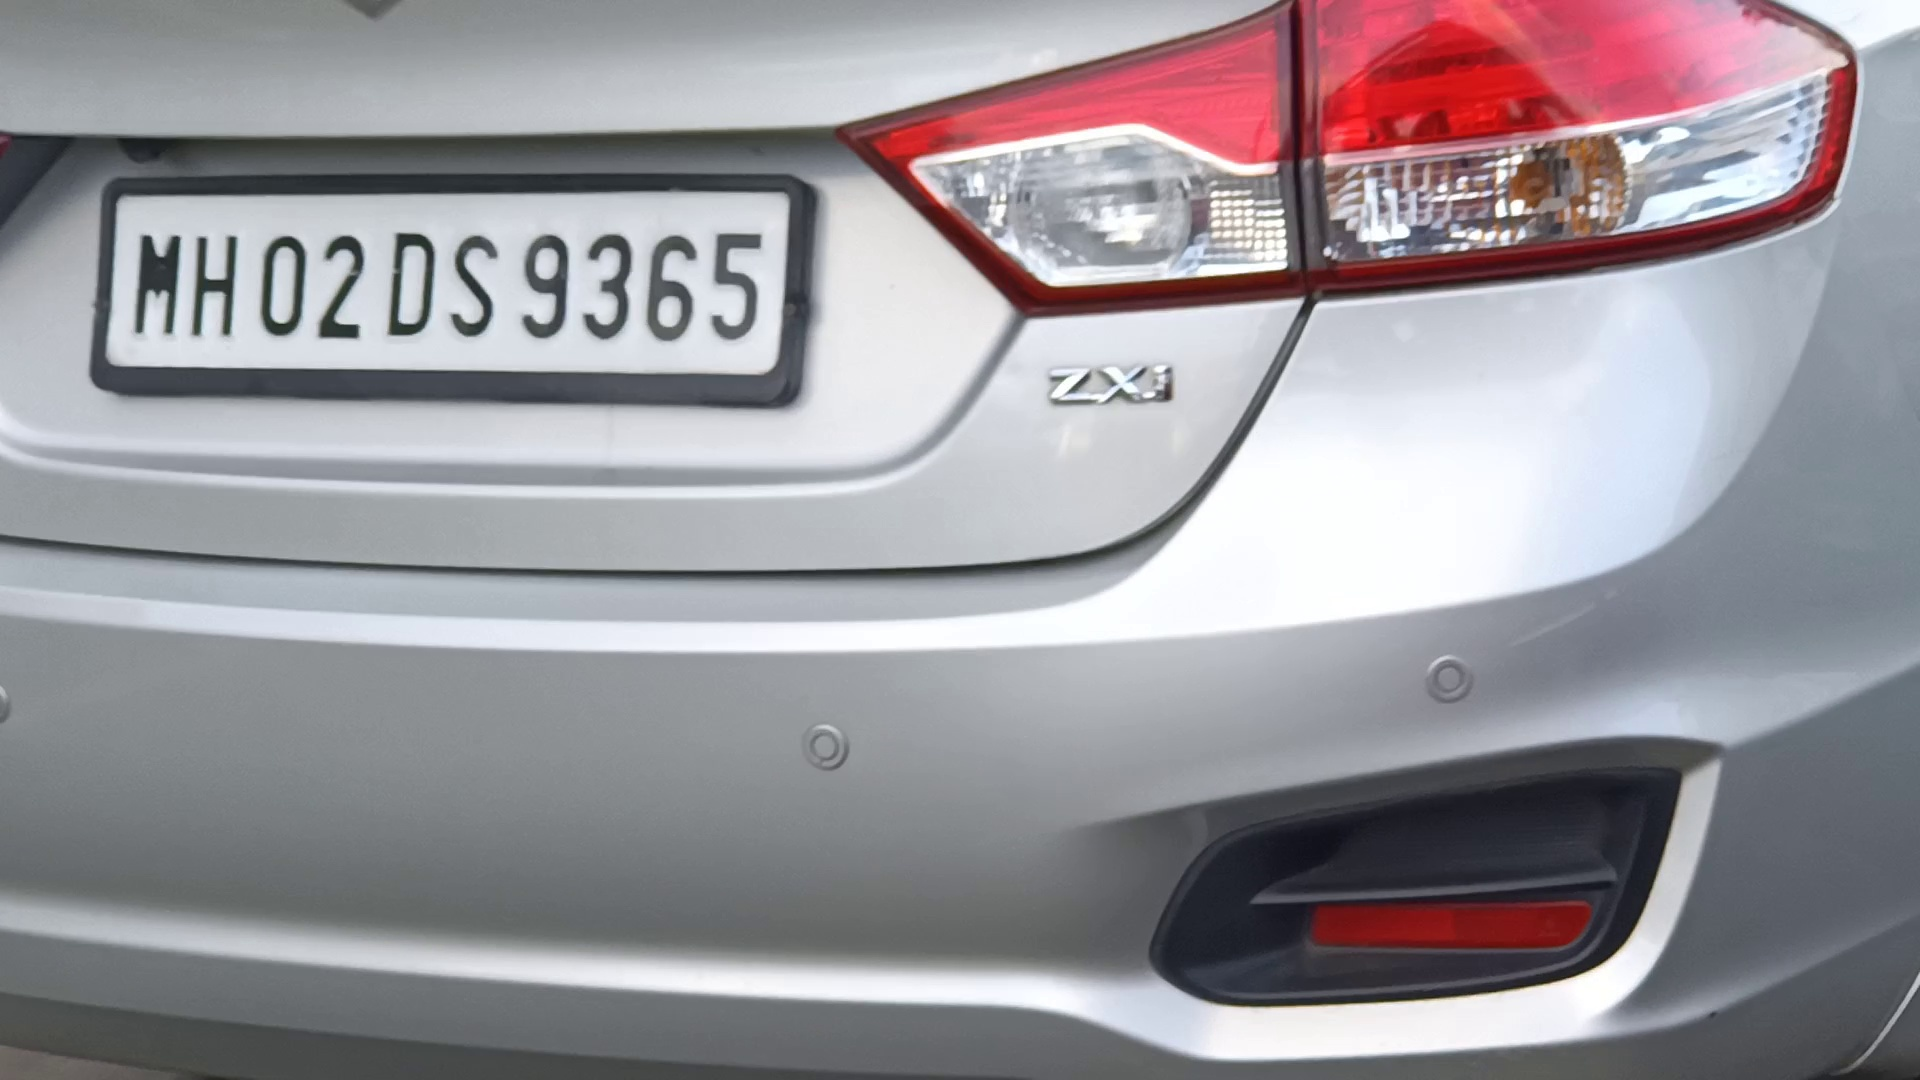MH02DS9365: (102, 185, 795, 381)
